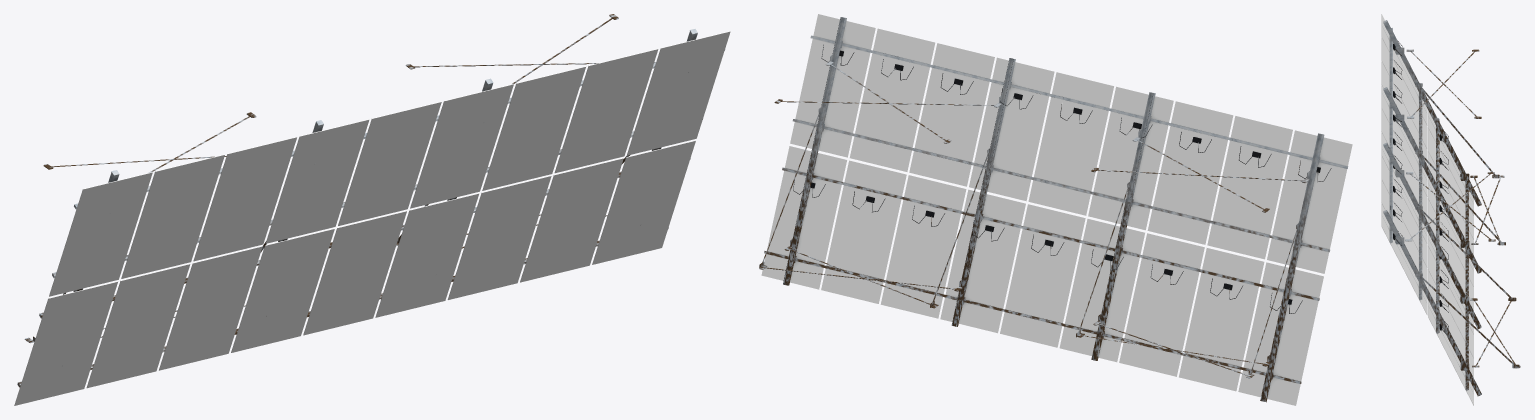
File: half_table_racking.obj
3 views of the same model, side by side, from view 1: azimuth 30°, elevation 25°; view 2: azimuth 150°, elevation 25°; view 3: azimuth 270°, elevation 25° (orthographic). The views are drawn at different scales.
Visible parts, largest first — view 1: half_table_racking; view 2: half_table_racking; view 3: half_table_racking.
Part boxes in pixels (x1,y1,x2,y2): half_table_racking: (14, 14, 730, 405); half_table_racking: (759, 14, 1352, 405); half_table_racking: (1381, 14, 1520, 405).
Bounding box in the file's own units: 10.15 × 4.12 × 2.8.
Materials: 1 (1 with a texture image).
